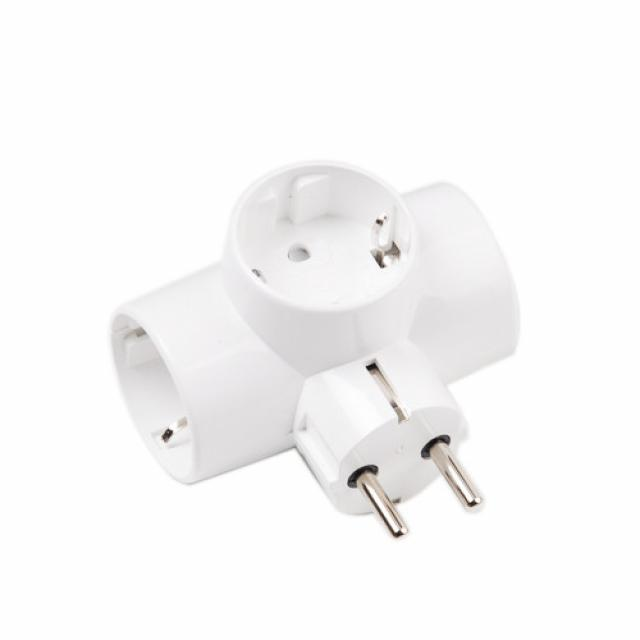typeb: (202, 168, 456, 351)
